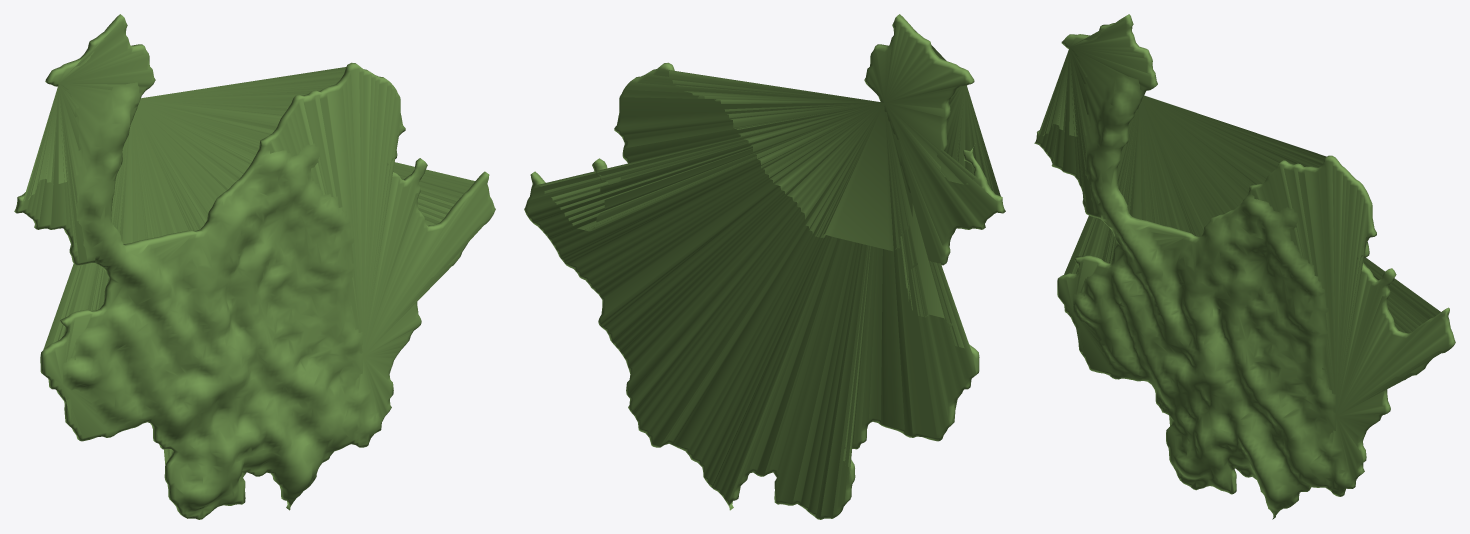
Rendered from MAPA.fbx.
3 views of the same model, side by side, from view 1: azimuth 30°, elevation 25°; view 2: azimuth 150°, elevation 25°; view 3: azimuth 330°, elevation 25° (orthographic). The views are drawn at different scales.
Parts seen in each view (by area): view 1: Plane; view 2: Plane; view 3: Plane.
Boxes of the visible parts, bbox=[...] form: Plane: bbox=[14, 14, 495, 519]; Plane: bbox=[524, 14, 1005, 519]; Plane: bbox=[1034, 14, 1455, 519].
Bounding box in the file's own units: 352 × 376 × 18.33.
